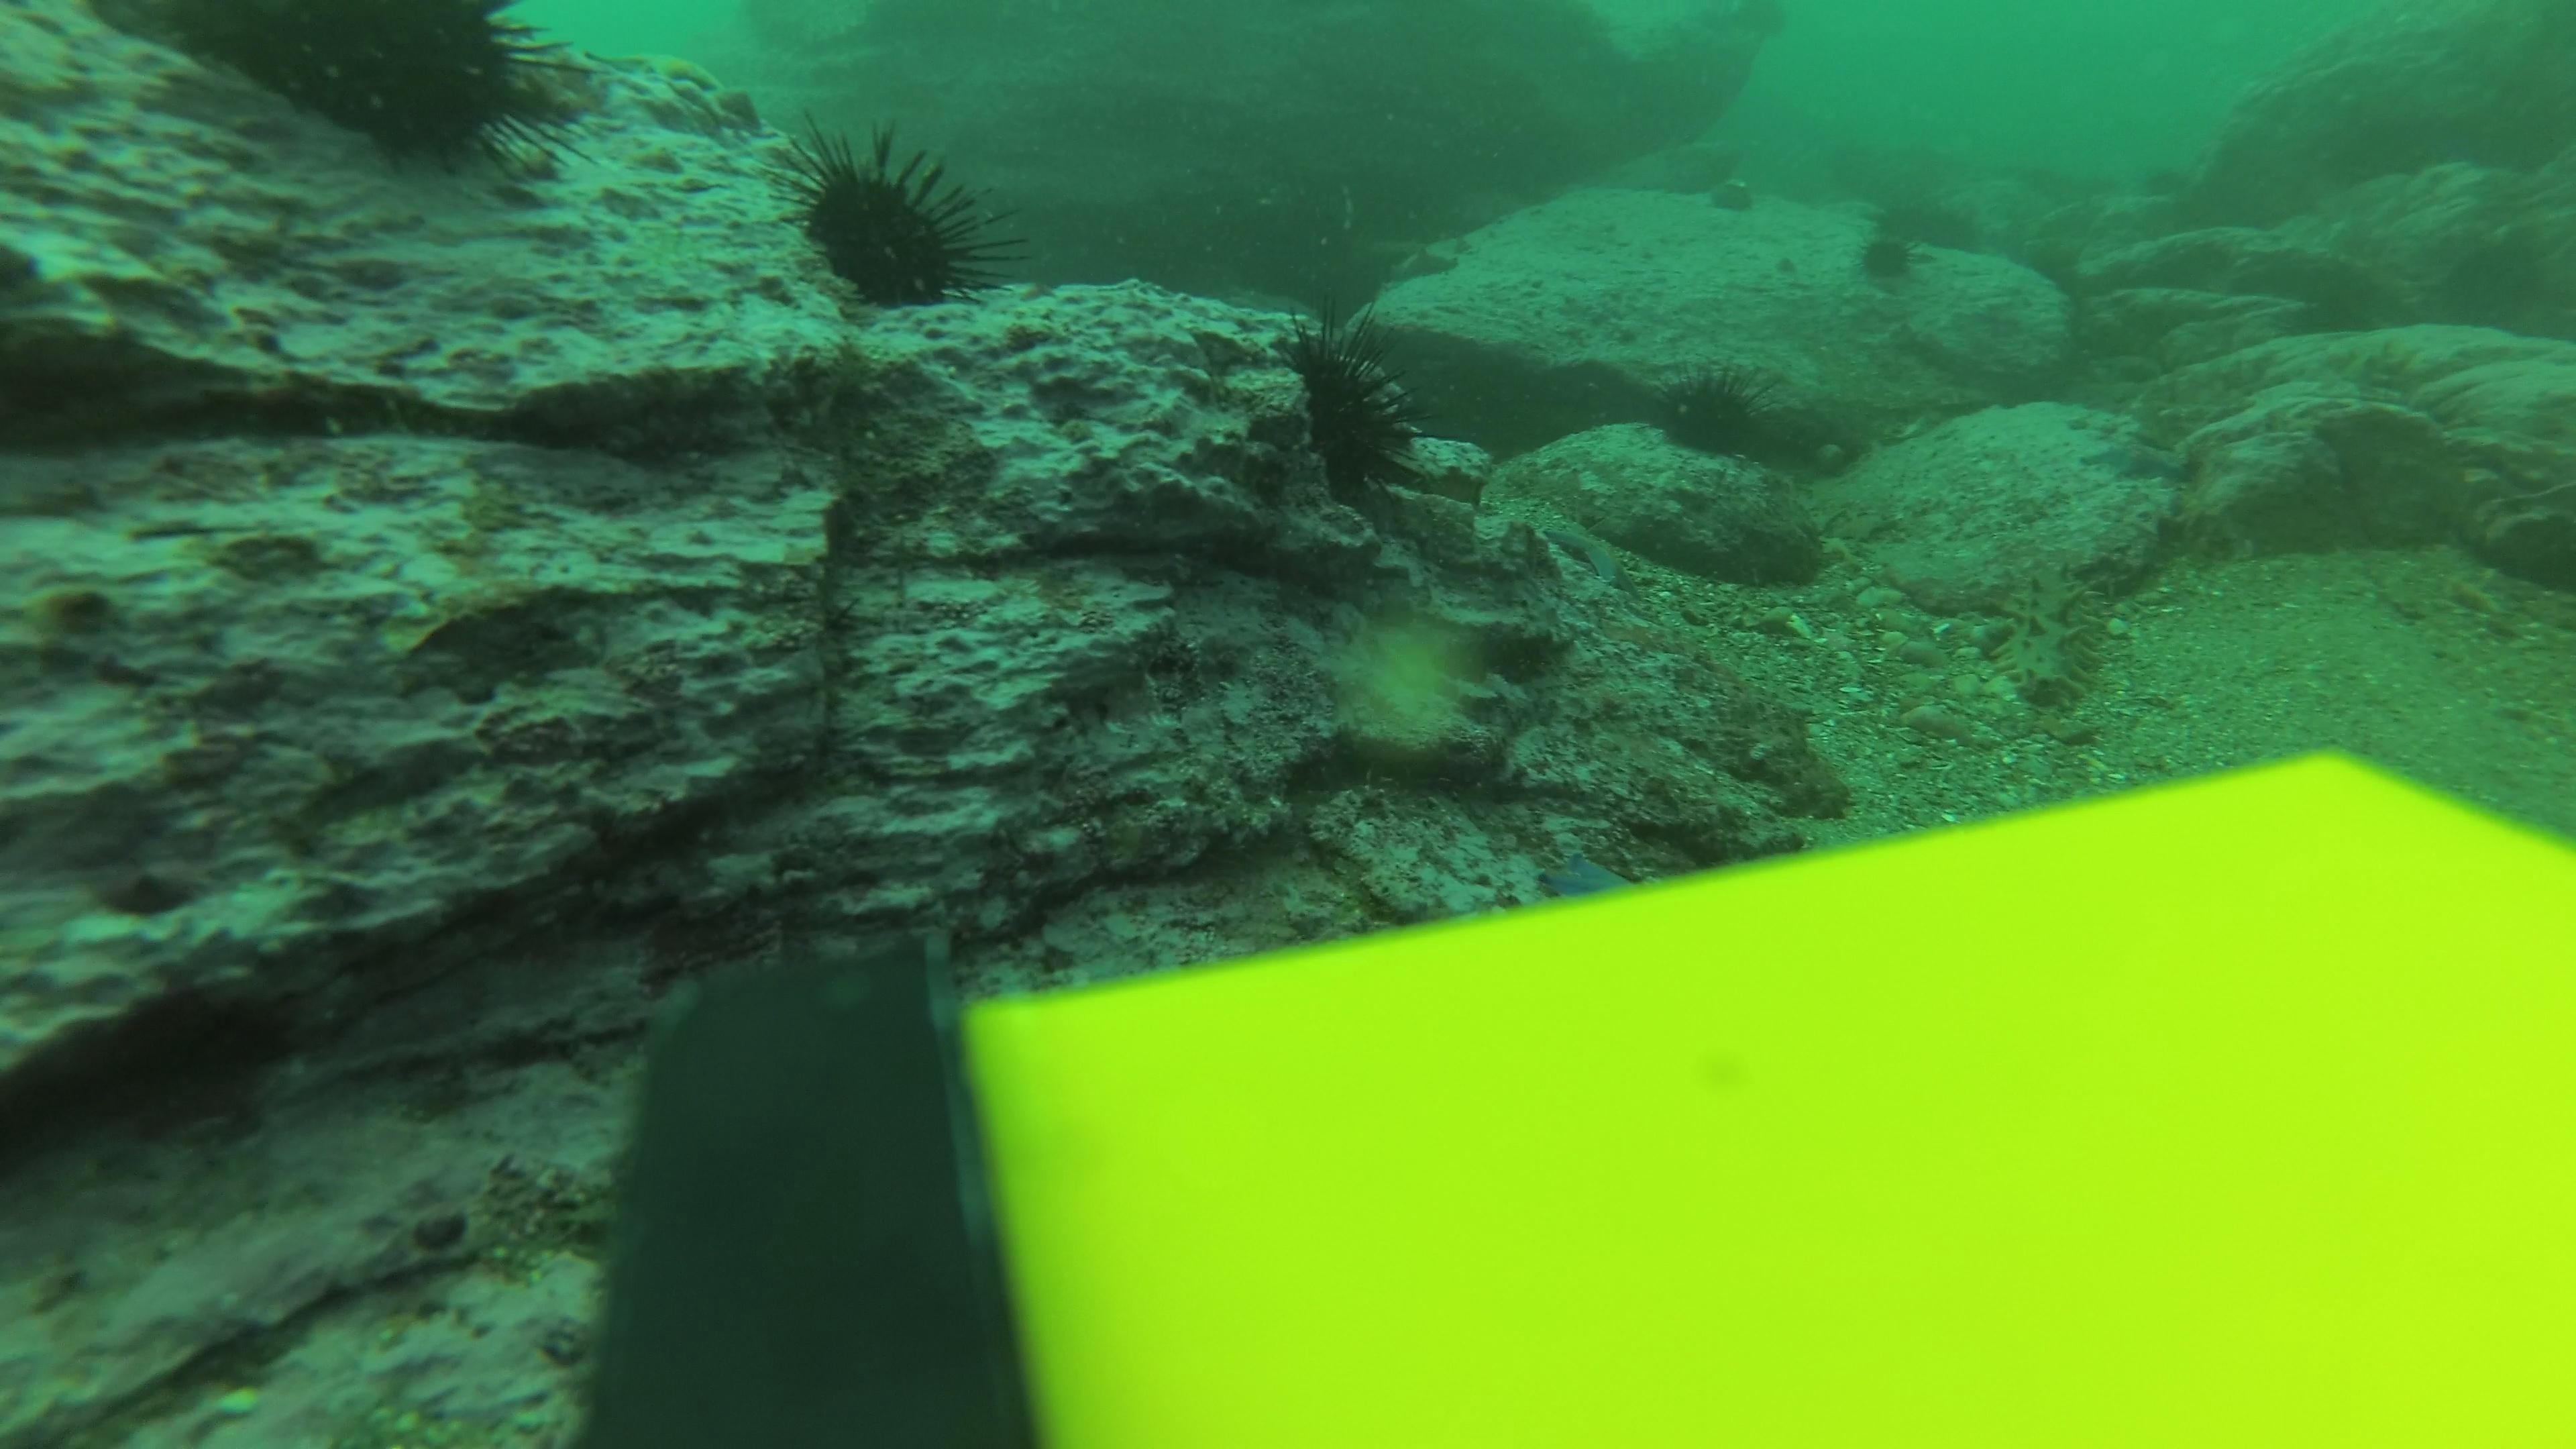echinus: (159, 4, 580, 189), (770, 117, 1014, 318), (1274, 317, 1433, 518), (1651, 364, 1775, 467), (1847, 216, 1932, 292)
holothurian: (1994, 556, 2118, 718)
starfish: (568, 39, 766, 131), (1529, 504, 1647, 594), (2075, 426, 2192, 488), (1532, 840, 1642, 901), (1384, 232, 1468, 287)
